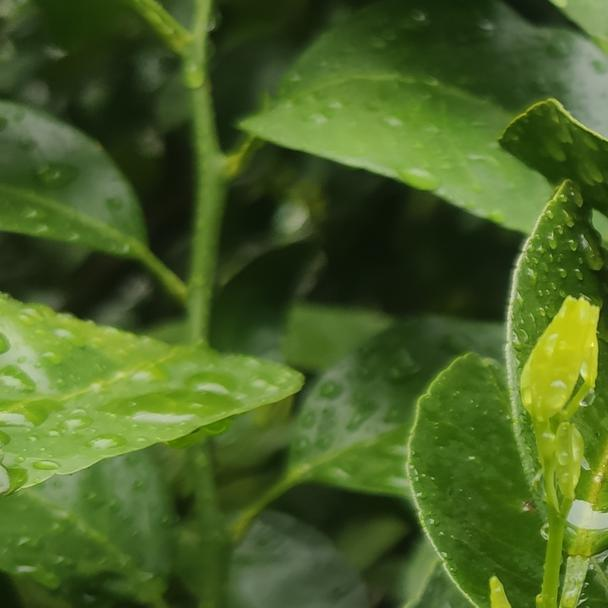shoot: (518, 303, 608, 474)
